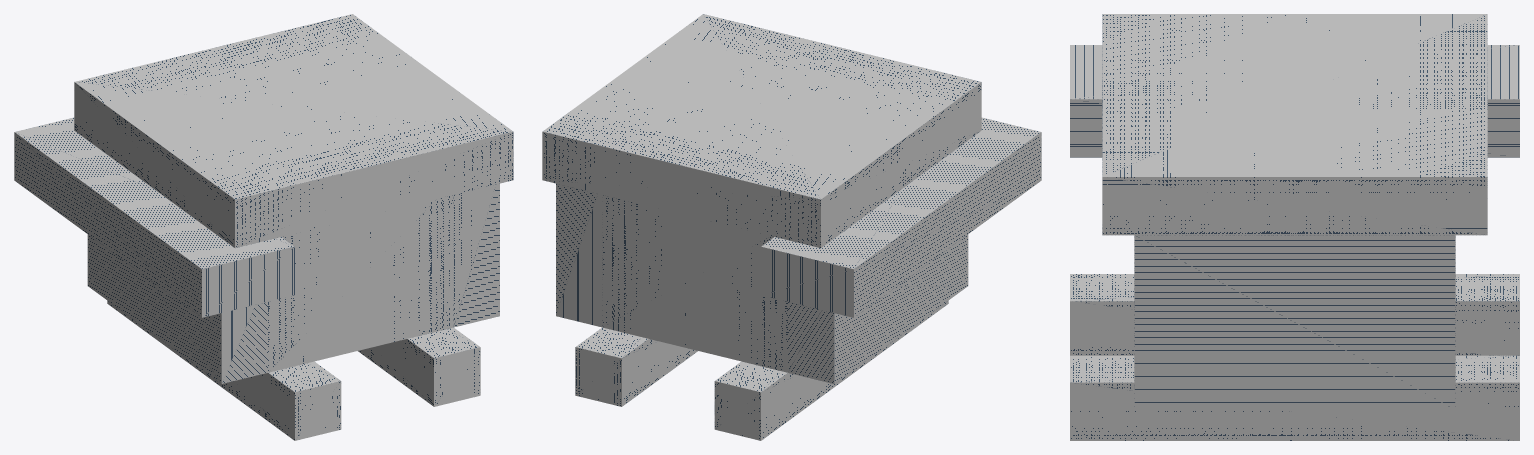
File: minecart.fbx
3 views of the same model, side by side, from view 1: azimuth 30°, elevation 25°; view 2: azimuth 150°, elevation 25°; view 3: azimuth 270°, elevation 25° (orthographic). The views are drawn at different scales.
Visible parts, largest first — view 1: generated; view 2: generated; view 3: generated.
Part boxes in pixels (left/top/right/bottom): generated: left=14, top=14, right=513, bottom=440; generated: left=542, top=14, right=1041, bottom=440; generated: left=1070, top=14, right=1519, bottom=440.
Size of the model in its own units: 70 by 50 by 70.
Materials: 1 (1 with a texture image).
